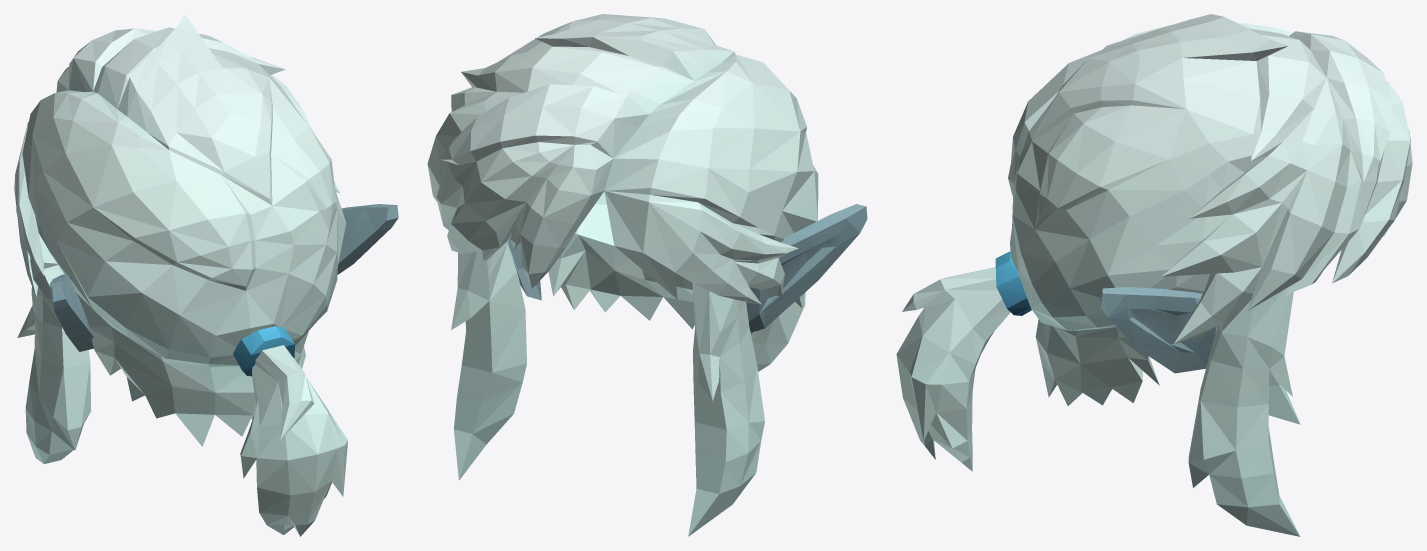
File: CharSkyKid_Hair_Elf_01.glb
3 views of the same model, side by side, from view 1: azimuth 30°, elevation 25°; view 2: azimuth 150°, elevation 25°; view 3: azimuth 270°, elevation 25° (orthographic). The views are drawn at different scales.
Visible parts, largest first — view 1: CharSkyKid_Hair_Elf_01; view 2: CharSkyKid_Hair_Elf_01; view 3: CharSkyKid_Hair_Elf_01.
Part boxes in pixels (<box>): CharSkyKid_Hair_Elf_01: <box>14,14,398,536</box>; CharSkyKid_Hair_Elf_01: <box>427,14,867,536</box>; CharSkyKid_Hair_Elf_01: <box>896,14,1412,536</box>.
Size of the model in its own units: 3.45 by 3.94 by 4.04.
1 material, 1 textured.
